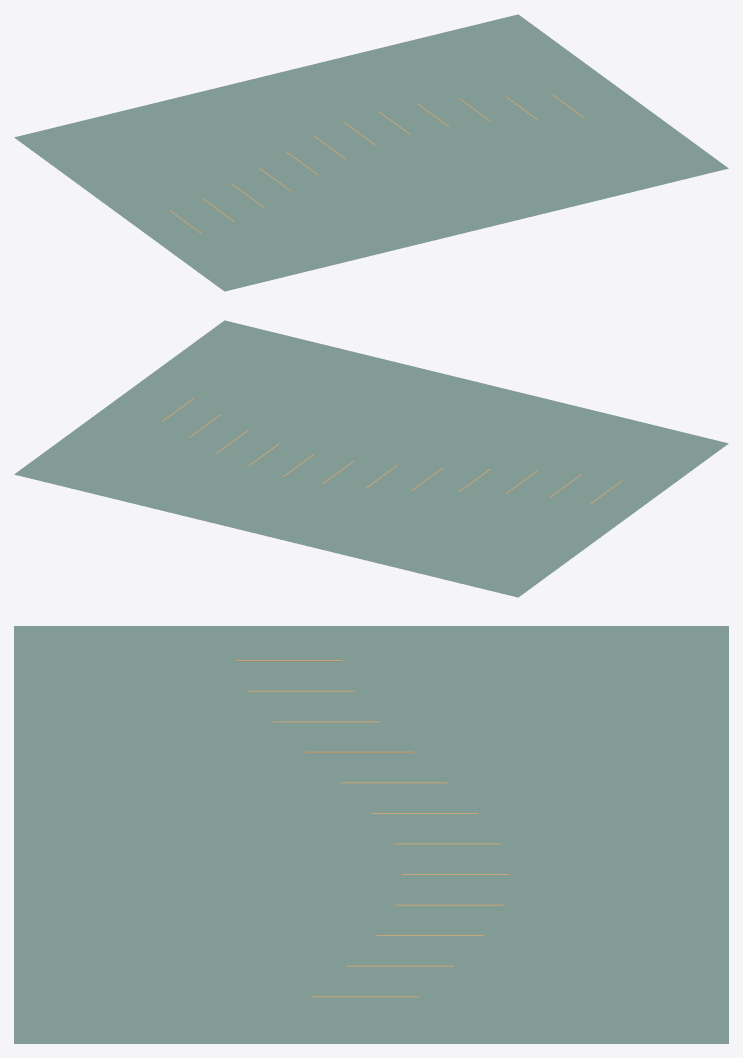
Rendered from 287_L120_L22_LayerReference.glb.
The picture shows the model from 3 angles, top to bottom: view 1: azimuth 30°, elevation 25°; view 2: azimuth 150°, elevation 25°; view 3: azimuth 270°, elevation 25°; orthographic projection. The views are drawn at different scales.
Visible parts, largest first — view 1: 0000__PSMAT__dielectric; view 2: 0000__PSMAT__dielectric; view 3: 0000__PSMAT__dielectric.
Boxes of the visible parts, x1,y1,x2,y2 form: 0000__PSMAT__dielectric: [14, 14, 728, 291]; 0000__PSMAT__dielectric: [14, 320, 728, 597]; 0000__PSMAT__dielectric: [14, 626, 728, 1043].
Bounding box in the file's own units: 0.506 × 8.8e-05 × 0.366.
